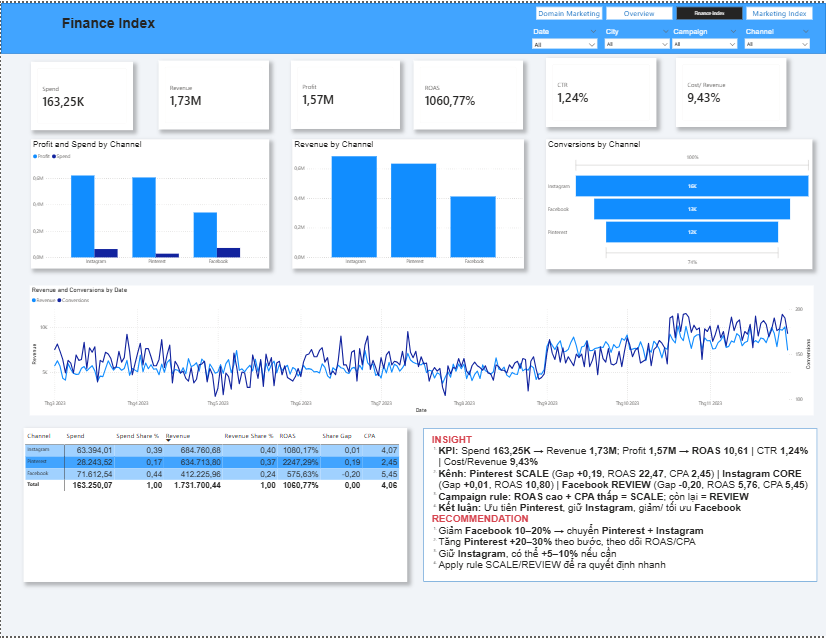

The page's visual inventory and layout, read from the dashboard file:
{"tool":"powerbi","page":{"name":"Finance index","canvas":[2200,1690],"ordinal":2},"visuals":[{"type":"shape","box":[0,0,2200,135],"z":0},{"type":"pageNavigator","box":[1425,8.3,741.7,35],"z":1000},{"type":"textbox","box":[155,26.2,396.2,63.8],"z":2000},{"type":"cardVisual","fields":{"Data":["Sum(data.Spend, GBP)"]},"box":[80,156,272,182],"z":3000},{"type":"cardVisual","fields":{"Data":["#Measure.Revenue"]},"box":[420,154,294,184],"z":4000},{"type":"cardVisual","fields":{"Data":["#Measure.Profit"]},"box":[774,154,290,182],"z":5000},{"type":"cardVisual","fields":{"Data":["#Measure.ROAS"]},"box":[1100,154,292,184],"z":6000},{"type":"cardVisual","fields":{"Data":["#Measure.CTR"]},"box":[1452,148,294,184],"z":7000},{"type":"cardVisual","fields":{"Data":["#Measure.Cost/ Revenue"]},"box":[1800,148,294,184],"z":8000},{"type":"slicer","fields":{"Values":["data.Date"]},"box":[1405,58.3,193.3,61.7],"z":9000},{"type":"slicer","fields":{"Values":["data.City/Location"]},"box":[1598.3,58.3,193.3,61.7],"z":10000},{"type":"slicer","fields":{"Values":["data.Campaign"]},"box":[1780,58.3,193.3,61.7],"z":11000},{"type":"clusteredColumnChart","fields":{"Category":["data.Channel"],"Y":["#Measure.Profit","#Measure.Spend"]},"box":[80,362.5,635,345],"z":12000},{"type":"clusteredColumnChart","fields":{"Category":["data.Channel"],"Y":["#Measure.Revenue"]},"box":[775,362.5,617.5,345],"z":13000},{"type":"funnel","fields":{"Category":["data.Channel"],"Y":["Sum(data.Conversions)"]},"box":[1453.3,363.3,710,346.7],"z":14000},{"type":"pivotTable","fields":{"Rows":["data.Channel"],"Values":["#Measure.Spend","#Measure.Spend Share %","#Measure.Revenue","#Measure.Revenue Share %","#Measure.ROAS","#Measure.Share Gap","#Measure.CPA"]},"box":[60,1133.3,1023.3,410],"z":15000},{"type":"slicer","fields":{"Values":["data.Channel"]},"box":[1973.3,58.3,193.3,61.7],"z":16000},{"type":"shape","box":[1127.5,1132.5,1050,410],"z":17000},{"type":"textbox","box":[1142.5,1142.5,1020,400],"z":18000},{"type":"lineChart","fields":{"Category":["Date.Date"],"Y":["#Measure.Revenue"],"Y2":["#Measure.Conversions"]},"box":[76.7,753.3,2090,346.7],"z":19000}]}

Visuals, with their boxes in screenshot pixels (x1, y1, x2, y2), scaled from the page's 2200x1690 canvas onto the 826x638 screenshot:
shape: region(0, 0, 825, 51)
pageNavigator: region(535, 3, 813, 16)
textbox: region(58, 10, 207, 34)
cardVisual - Sum(data.Spend, GBP): region(30, 59, 132, 128)
cardVisual - #Measure.Revenue: region(158, 58, 268, 128)
cardVisual - #Measure.Profit: region(291, 58, 399, 127)
cardVisual - #Measure.ROAS: region(413, 58, 523, 128)
cardVisual - #Measure.CTR: region(545, 56, 656, 125)
cardVisual - #Measure.Cost/ Revenue: region(676, 56, 786, 125)
slicer - data.Date: region(528, 22, 600, 45)
slicer - data.City/Location: region(600, 22, 673, 45)
slicer - data.Campaign: region(668, 22, 741, 45)
clusteredColumnChart - data.Channel x #Measure.Profit: region(30, 137, 268, 267)
clusteredColumnChart - data.Channel x #Measure.Revenue: region(291, 137, 523, 267)
funnel - data.Channel x Sum(data.Conversions): region(546, 137, 812, 268)
pivotTable - data.Channel x #Measure.Spend: region(23, 428, 407, 583)
slicer - data.Channel: region(741, 22, 813, 45)
shape: region(423, 428, 818, 582)
textbox: region(429, 431, 812, 582)
lineChart - Date.Date x #Measure.Revenue: region(29, 284, 813, 415)
